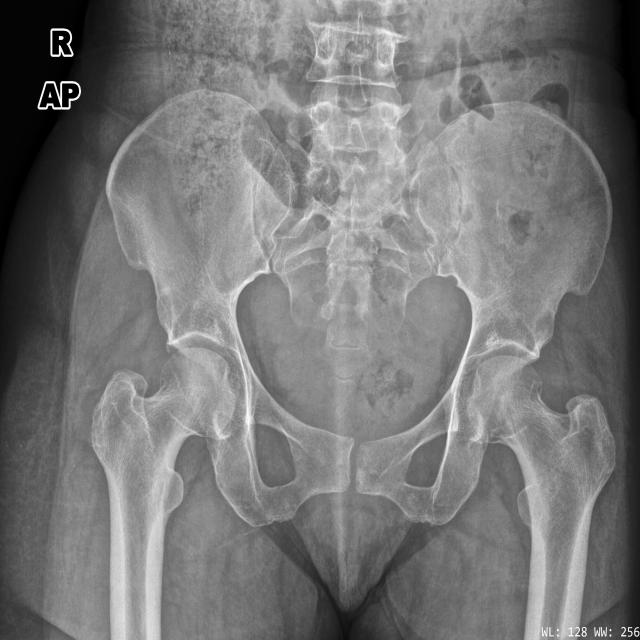normal-left: (467, 355, 616, 640)
normal-right: (89, 348, 235, 640)
